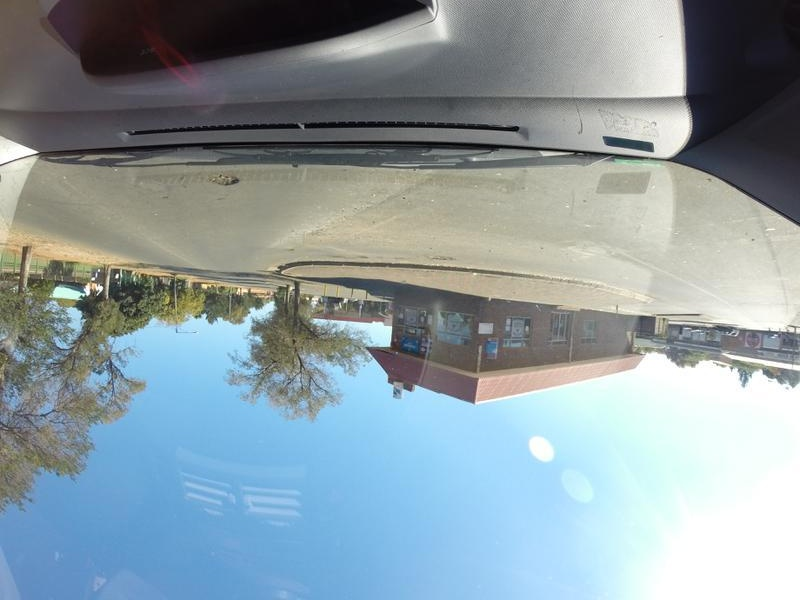pothole: (208, 175, 246, 189)
